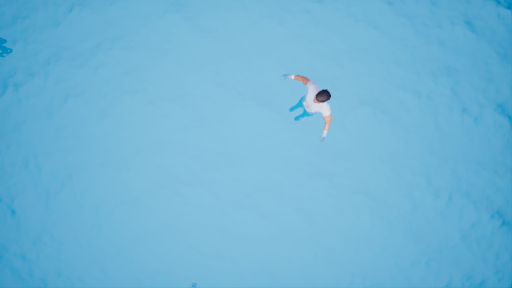person: (275, 70, 340, 141)
